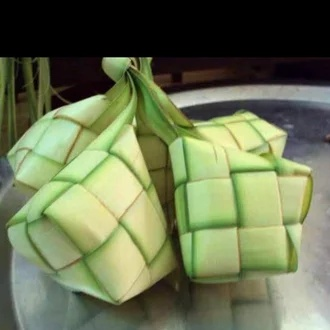ketupat: (5, 124, 180, 306), (167, 136, 314, 287)
